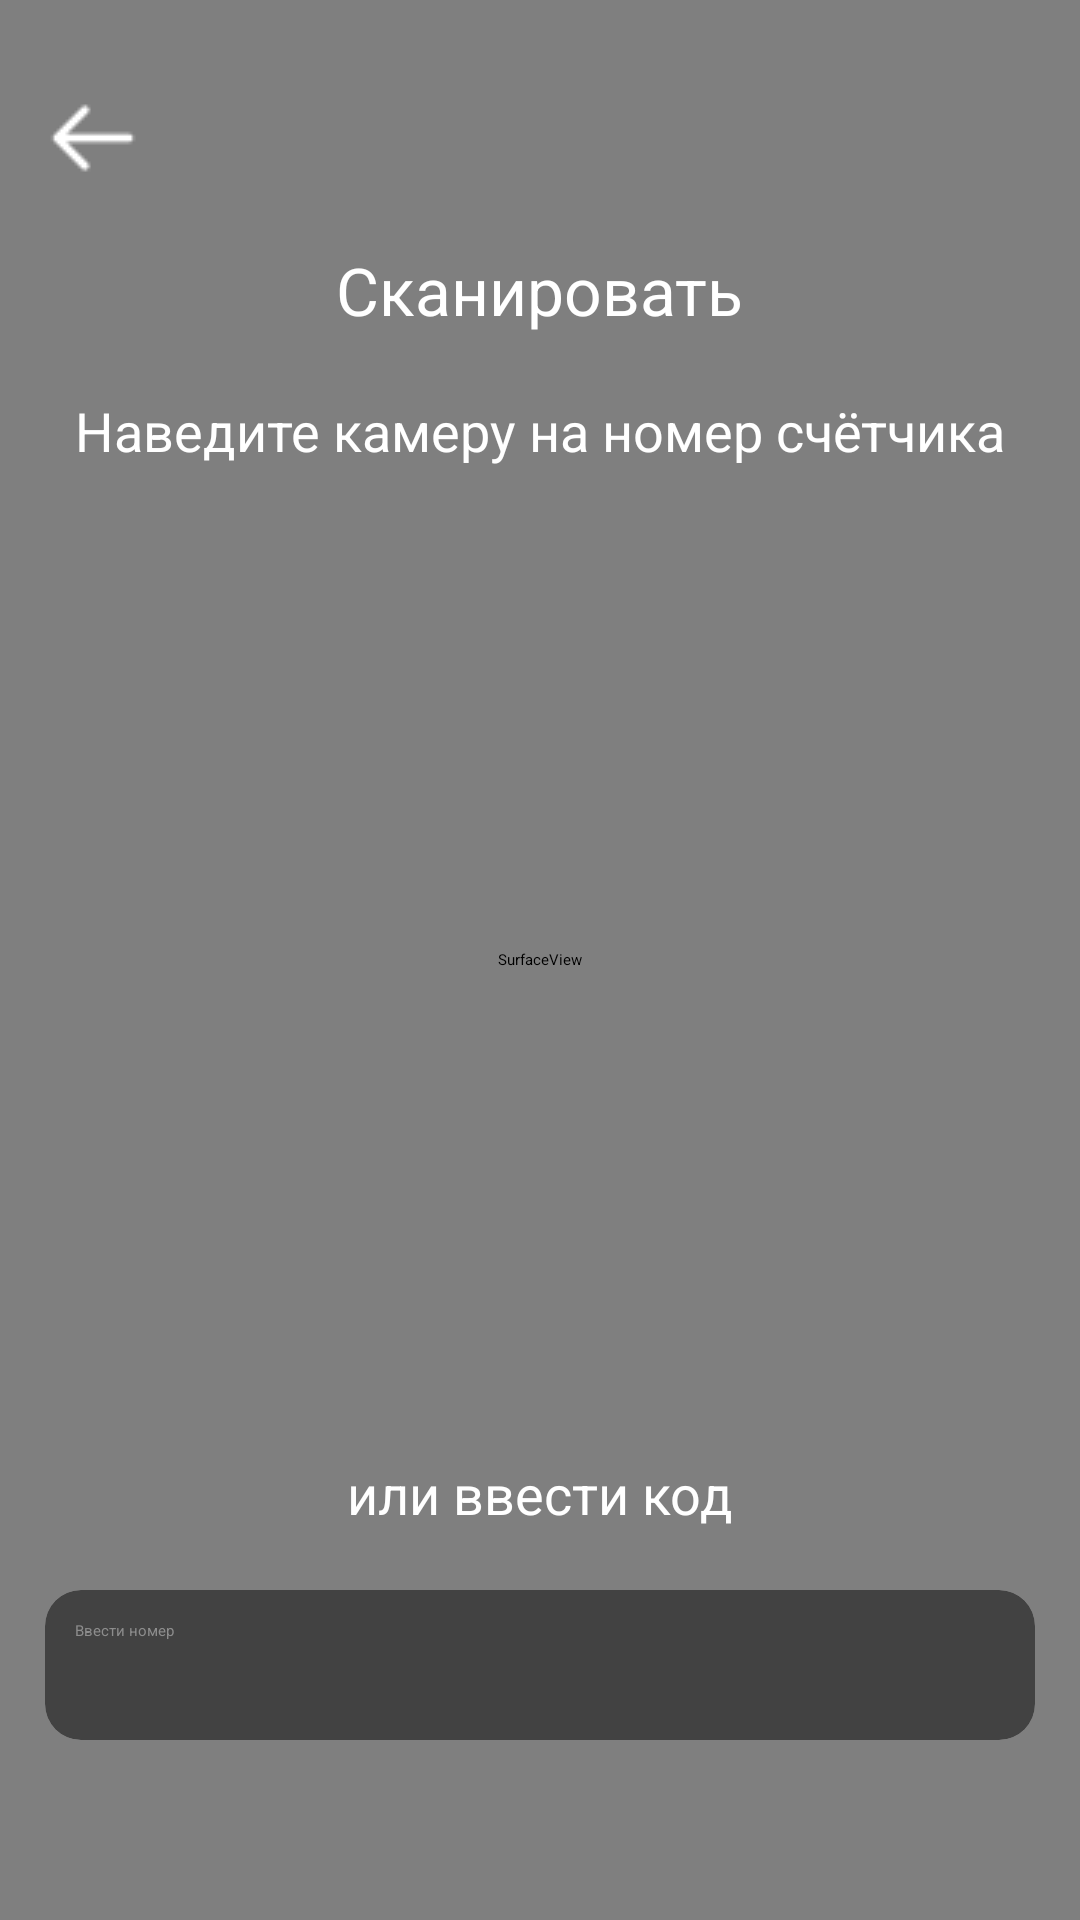

Screen size 1080px×1920px. Icon name, then its center in pixels as [x,y]:
left arrow: [93,138]
